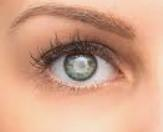eye: (64, 53, 98, 81)
